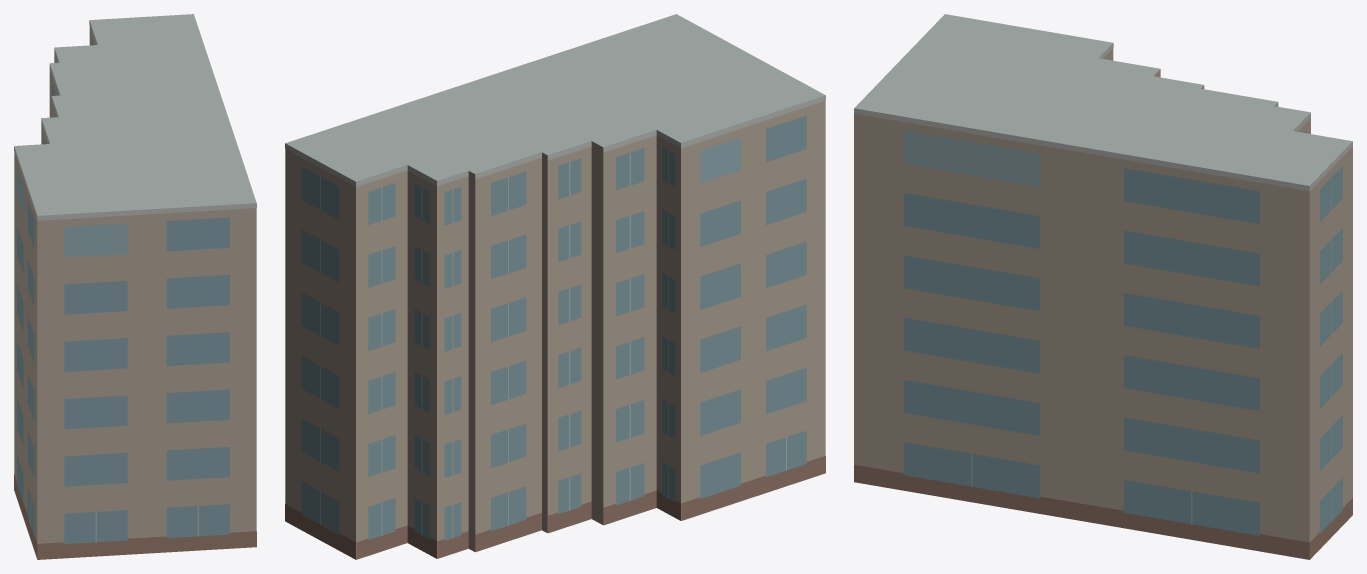
The model's file is survey-upis-32672276.glb.
3 views of the same model, side by side, from view 1: azimuth 30°, elevation 25°; view 2: azimuth 150°, elevation 25°; view 3: azimuth 270°, elevation 25° (orthographic). The views are drawn at different scales.
Parts seen in each view (by area): view 1: survey-upis-32672276.tmp; view 2: survey-upis-32672276.tmp; view 3: survey-upis-32672276.tmp.
Part boxes in pixels (x1,y1,x2,y2): survey-upis-32672276.tmp: (14, 14, 256, 559); survey-upis-32672276.tmp: (285, 14, 825, 559); survey-upis-32672276.tmp: (854, 14, 1352, 559).
Size of the model in its own units: 17.07 by 17.3 by 20.92.
